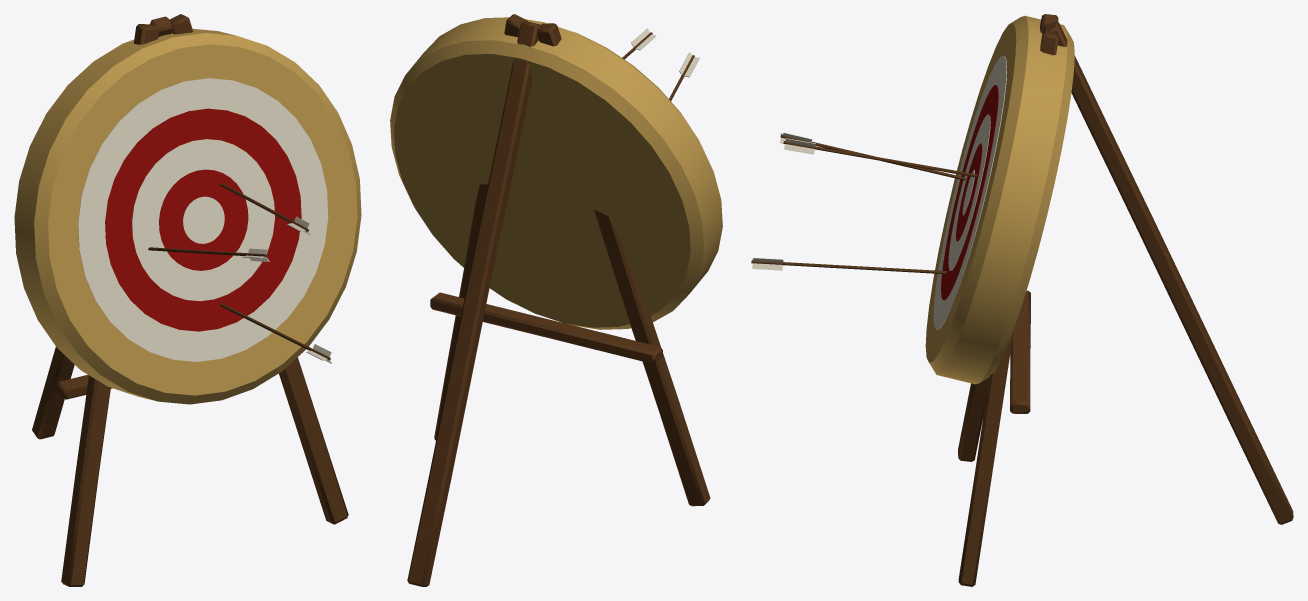
File: zielscheibe.glb
3 renders of one model, left to right at view 1: azimuth 30°, elevation 25°; view 2: azimuth 150°, elevation 25°; view 3: azimuth 270°, elevation 25°, orthographic. The views are drawn at different scales.
Visible parts, largest first — view 1: zielscheibe; view 2: zielscheibe; view 3: zielscheibe.
Boxes of the visible parts, x1=… form: zielscheibe: x1=14, y1=14, x2=361, y2=586; zielscheibe: x1=390, y1=14, x2=722, y2=586; zielscheibe: x1=751, y1=14, x2=1293, y2=586.
Size of the model in its own units: 1.1 by 1.64 by 1.61.
